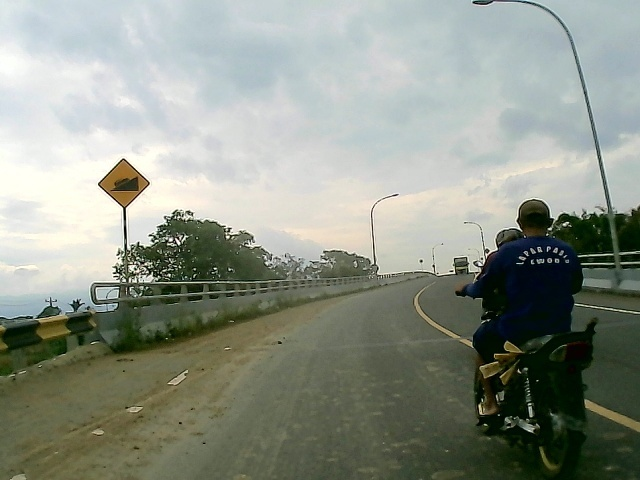Jalanan menanjak: (97, 157, 154, 210)
